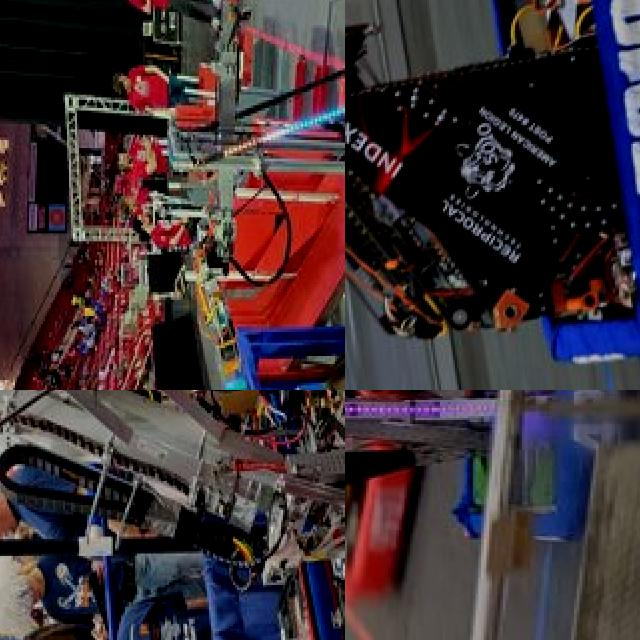FRC-Robots: (345, 0, 640, 390), (0, 390, 345, 640), (163, 0, 345, 355), (345, 390, 635, 531), (345, 390, 410, 613)
